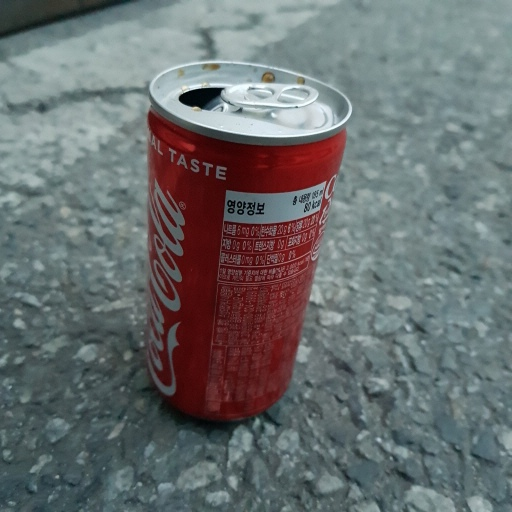Metal_0: (131, 61, 352, 426)
